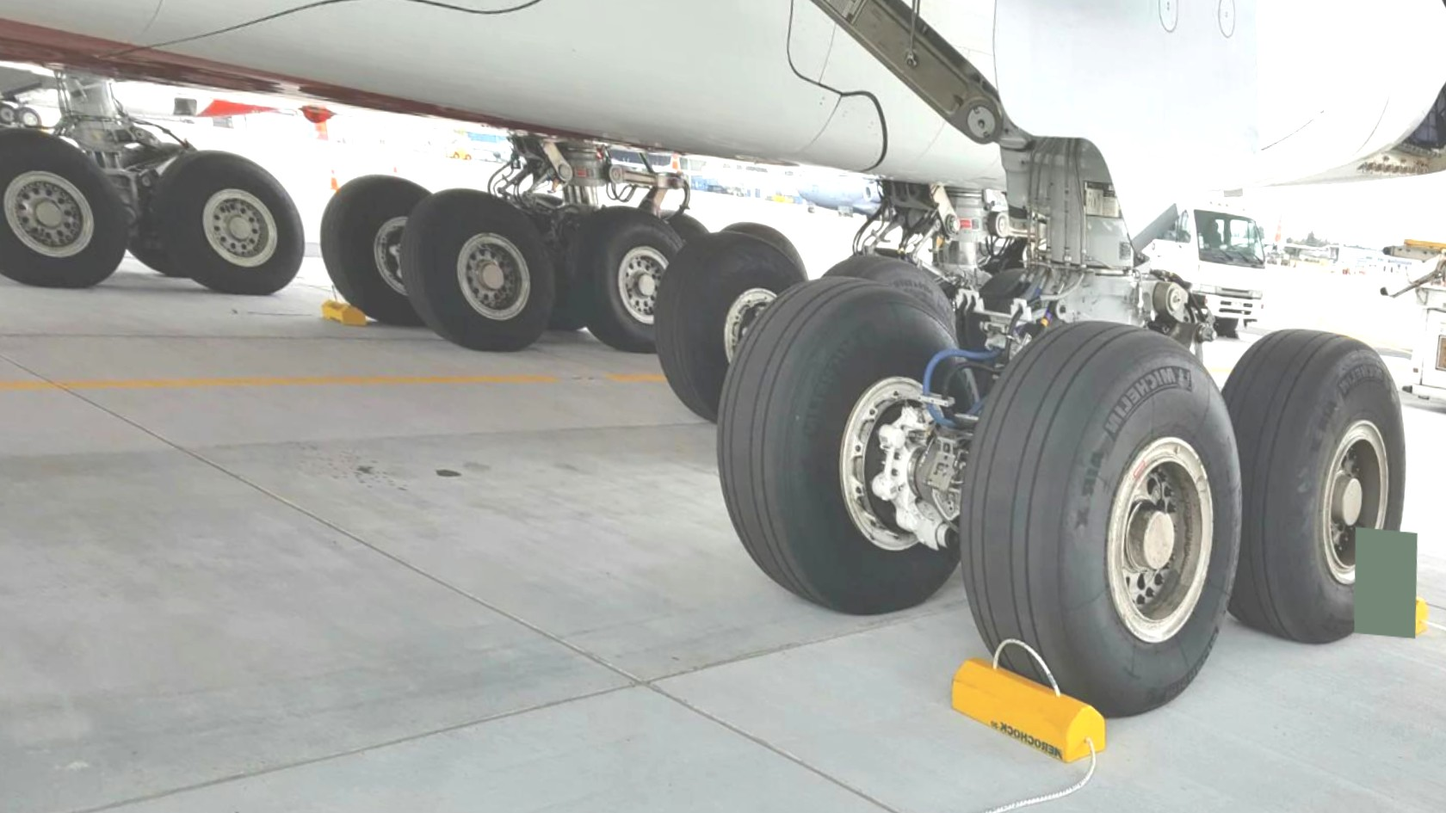chock: (940, 653, 1122, 766), (1302, 576, 1437, 640), (310, 298, 376, 332)
wheel: (921, 295, 1269, 721), (688, 248, 1004, 626), (1190, 315, 1427, 650), (635, 208, 831, 429), (388, 178, 571, 360), (130, 138, 321, 303), (0, 116, 149, 296), (299, 161, 454, 332), (554, 197, 698, 359), (509, 190, 611, 336), (815, 243, 956, 325), (707, 215, 811, 279)
